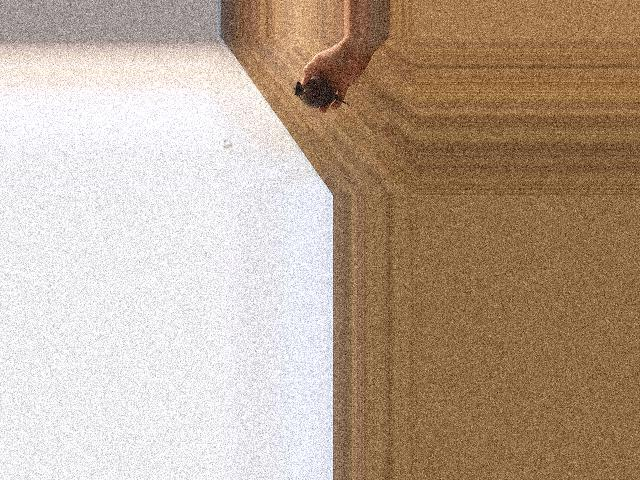beet: (294, 76, 349, 109)
